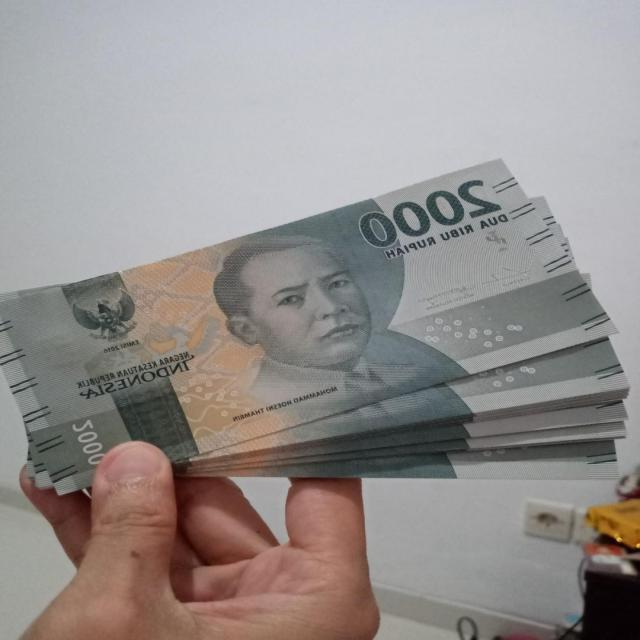dua ribu rupiah: (0, 157, 618, 508)
